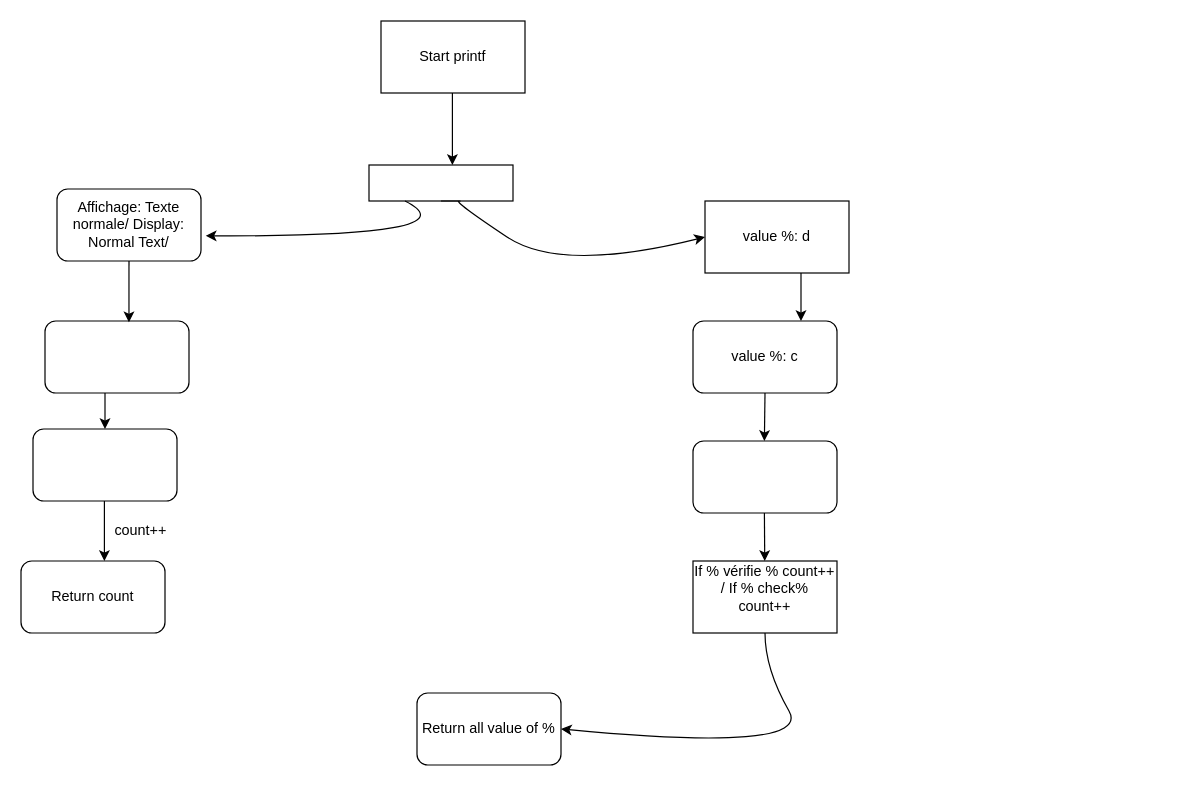
Image size: 1182x786. Some labels were removed from this diagram. The centre of each missing label's shape, as x and y in pixels:
Afficher un caractère normale/ D isplay a character normal: point 104,464
printf("Bonjour/n"): point 116,356
STDOUT: point 440,182
value % :s: point 764,476
